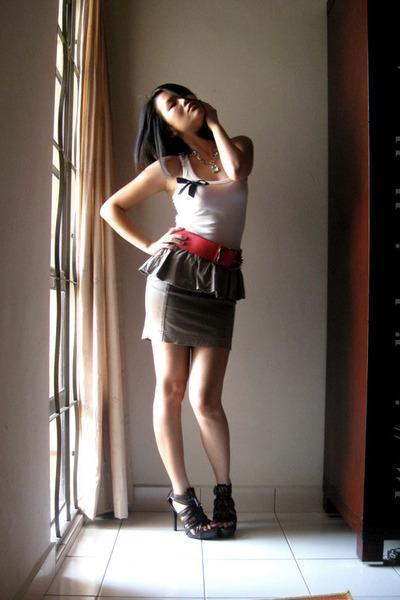shirt: (172, 161, 255, 243)
shoe: (156, 468, 236, 539)
skirt: (142, 242, 244, 371)
